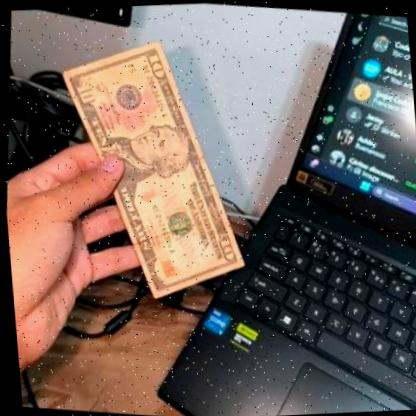ten-front: (37, 22, 273, 313)
